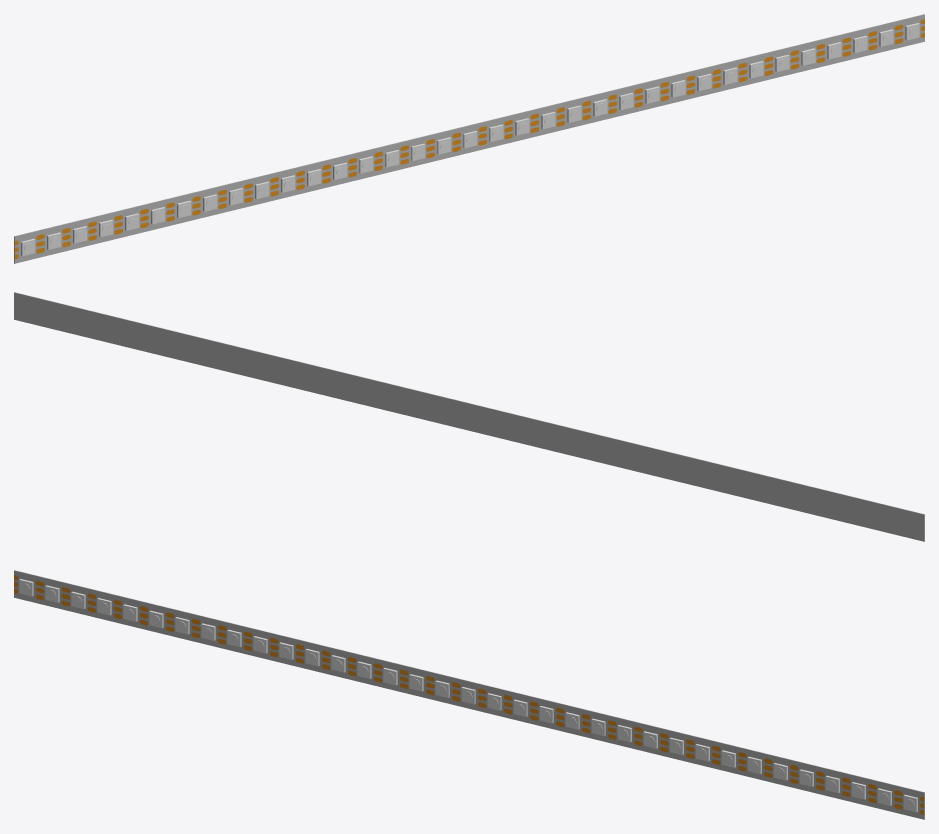
Rendered from LEDs.fbx.
3 views of the same model, one above another, from view 1: azimuth 30°, elevation 25°; view 2: azimuth 150°, elevation 25°; view 3: azimuth 330°, elevation 25° (orthographic).
Visible parts, largest first — view 1: LED.006, LED.014, LED.022, LED.009, LED.011, LED.017, LED.019, LED.001, LED.003, LED.008, LED.016, LED.004 (+23 smaller); view 2: LED.022, LED.001, LED.006, LED.009, LED.011, LED.014, LED.017, LED.019, LED.003, LED.008, LED.012, LED.020 (+23 smaller); view 3: LED.014, LED.022, LED.030, LED.017, LED.019, LED.025, LED.027, LED.020, LED.028, LED.033, LED.035, LED.016 (+23 smaller).
Part boxes in pixels (bbox=[...]): LED.006: bbox=[144, 198, 170, 231]; LED.014: bbox=[352, 147, 378, 180]; LED.022: bbox=[560, 96, 586, 130]; LED.009: bbox=[222, 179, 248, 212]; LED.011: bbox=[274, 166, 300, 200]; LED.017: bbox=[430, 128, 456, 161]; LED.019: bbox=[482, 116, 508, 149]; LED.001: bbox=[14, 230, 40, 263]; LED.003: bbox=[66, 217, 92, 250]; LED.008: bbox=[196, 185, 222, 219]; LED.016: bbox=[404, 135, 430, 168]; LED.004: bbox=[92, 211, 118, 244]; LED.022: bbox=[352, 374, 378, 408]; LED.001: bbox=[898, 508, 924, 541]; LED.006: bbox=[768, 476, 794, 509]; LED.009: bbox=[690, 457, 716, 490]; LED.011: bbox=[638, 444, 664, 478]; LED.014: bbox=[560, 425, 586, 458]; LED.017: bbox=[482, 406, 508, 439]; LED.019: bbox=[430, 394, 456, 427]; LED.003: bbox=[846, 495, 872, 528]; LED.008: bbox=[716, 463, 742, 497]; LED.012: bbox=[612, 438, 638, 471]; LED.020: bbox=[404, 387, 430, 420]; LED.014: bbox=[352, 652, 378, 686]; LED.022: bbox=[560, 703, 586, 736]; LED.030: bbox=[768, 754, 794, 787]; LED.017: bbox=[430, 672, 456, 705]; LED.019: bbox=[482, 684, 508, 717]; LED.025: bbox=[638, 722, 664, 756]; LED.027: bbox=[690, 735, 716, 768]; LED.020: bbox=[508, 691, 534, 724]; LED.028: bbox=[716, 741, 742, 775]; LED.033: bbox=[846, 773, 872, 806]; LED.035: bbox=[898, 786, 924, 819]; LED.016: bbox=[404, 665, 430, 698].
Size of the model in its own units: 2100 by 60 by 8.
